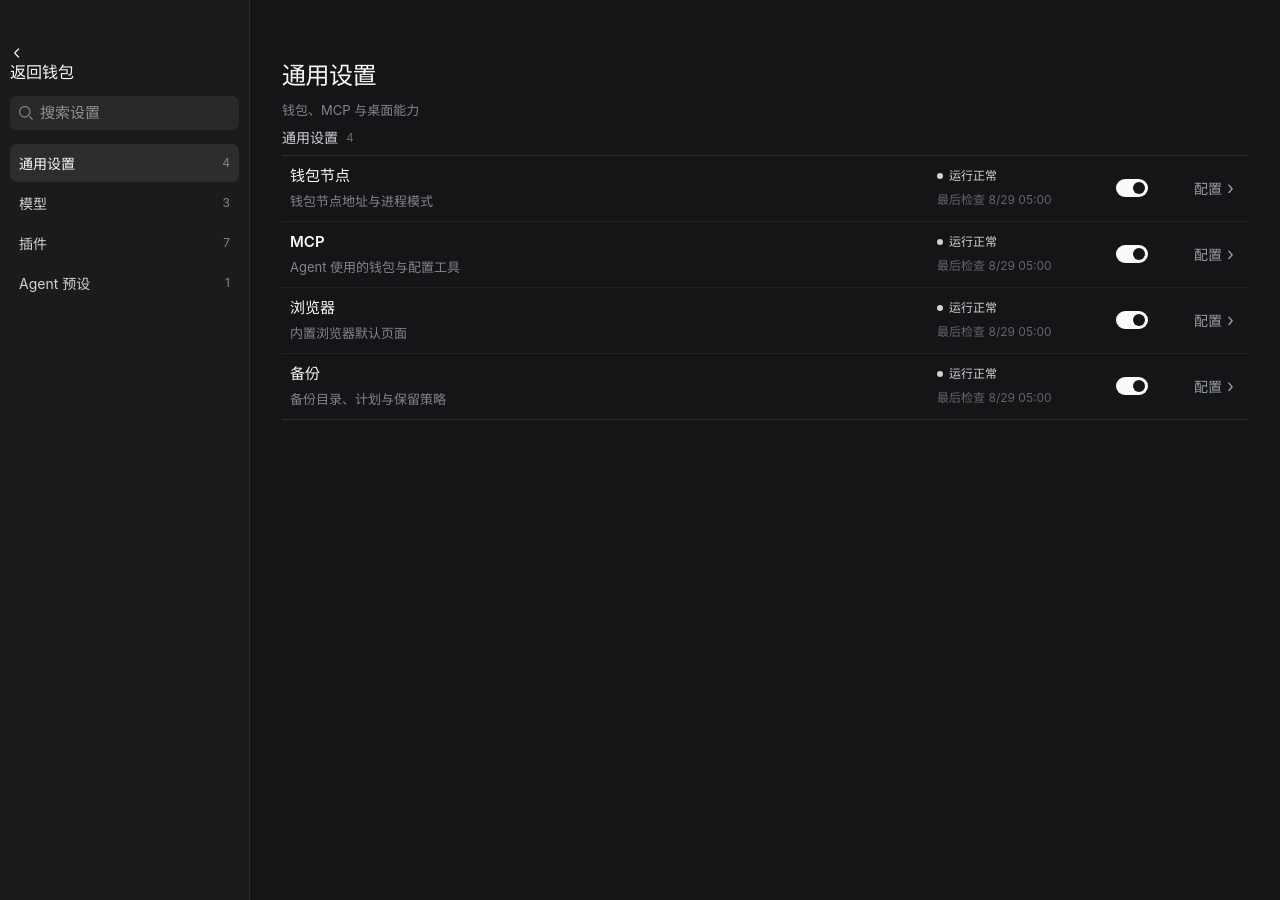
Test: settings labels › does not save a wallet signer session timeout shorter than two rounds
Click the button "通用设置 4". click: (124, 163)
box: [10,144,239,182]
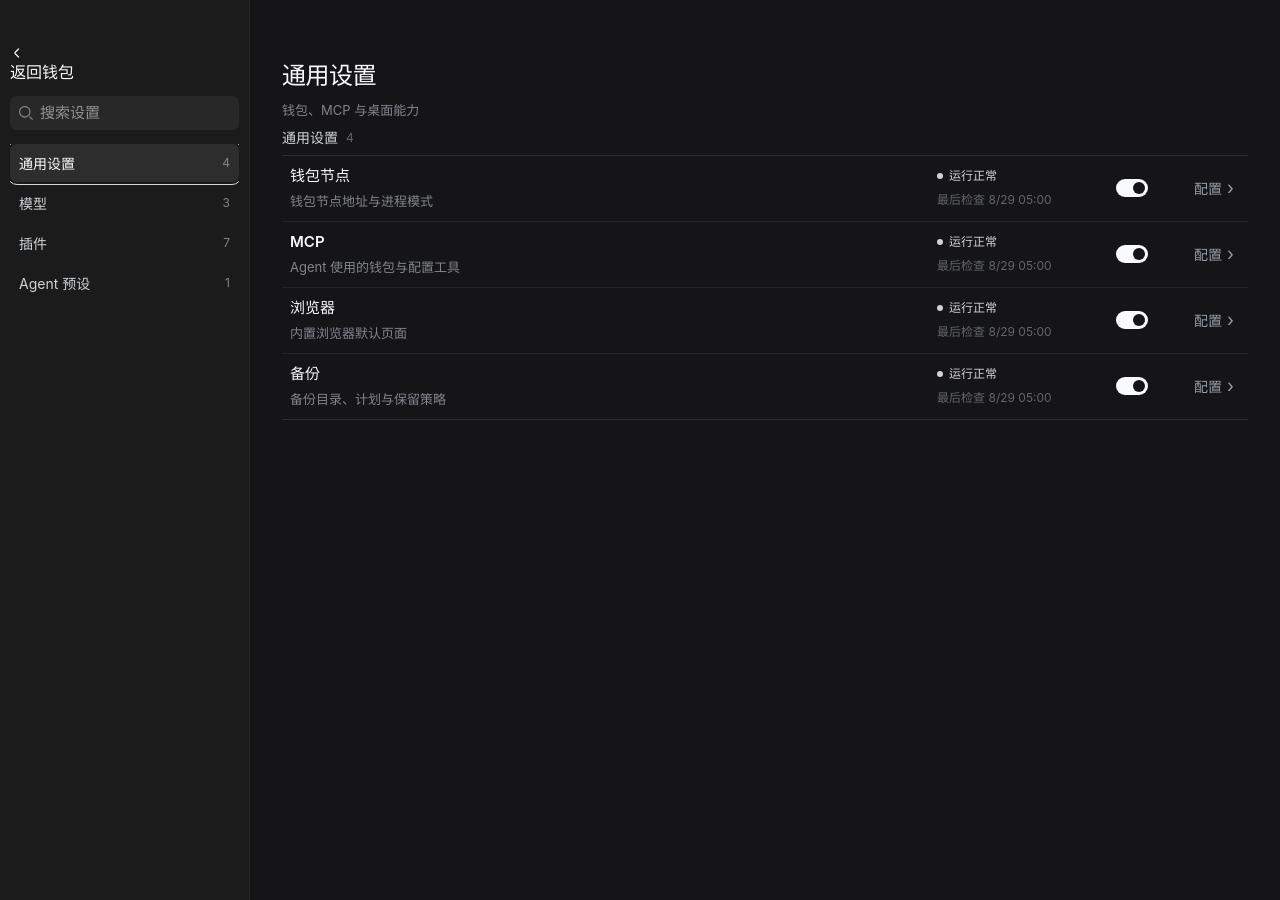
Click the button with aria-label "配置 钱包节点". click: (1214, 188)
box: [1188,172,1240,204]
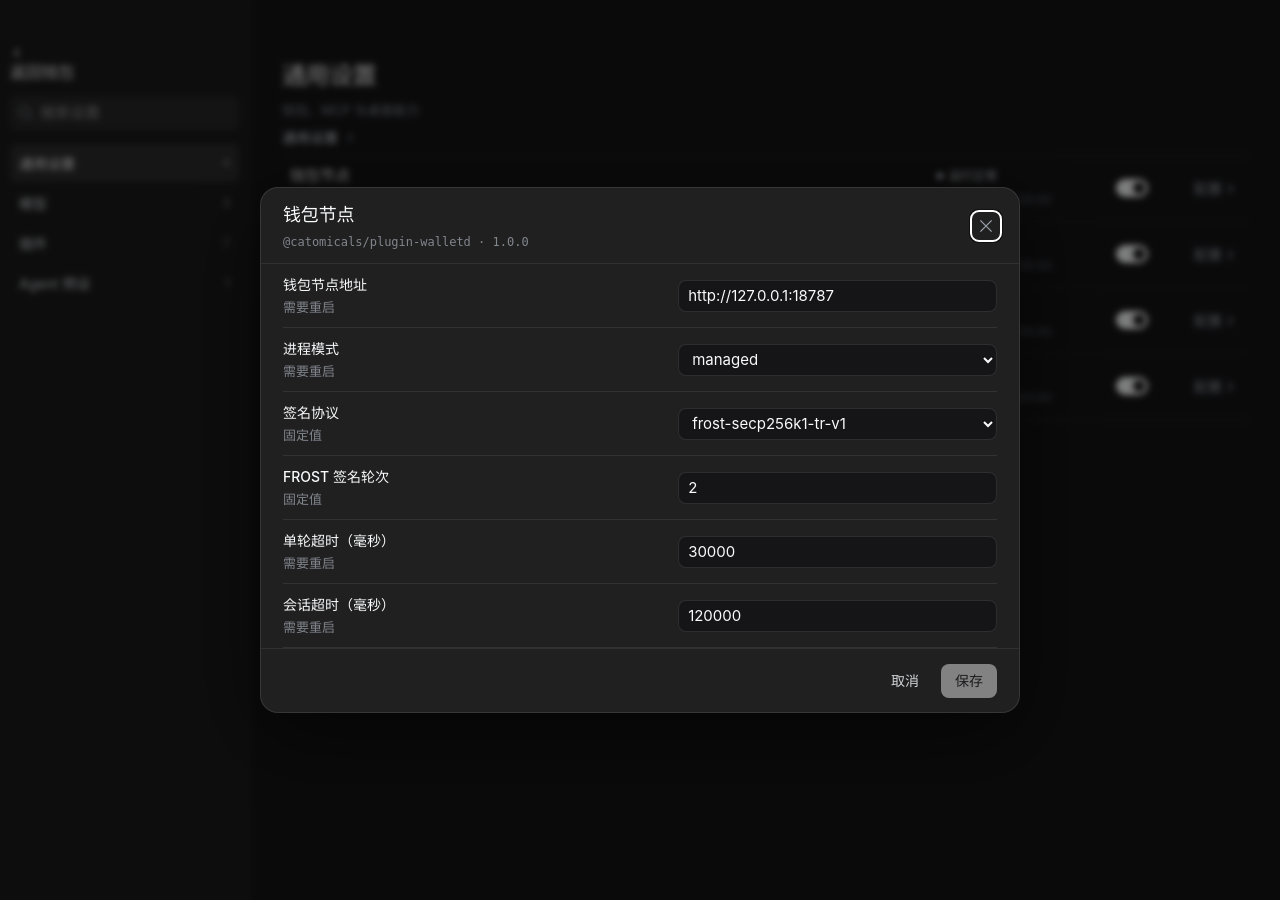
Replace the text in the number field labelled "会话超时（毫秒） 需要重启" with "59999". click: (838, 616)
box: [678,600,997,632]
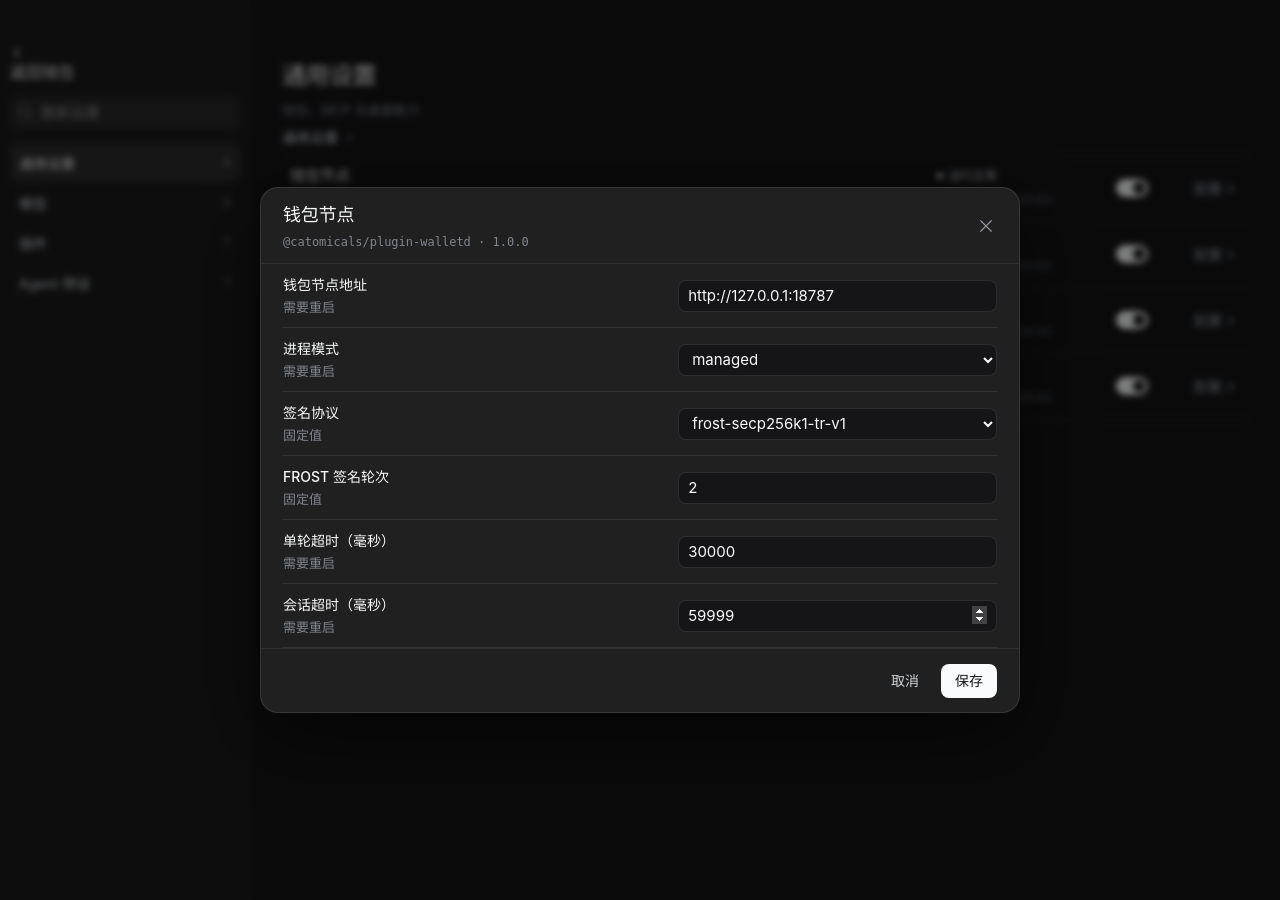
Click the button "保存". click: (969, 680)
box: [941,664,997,698]
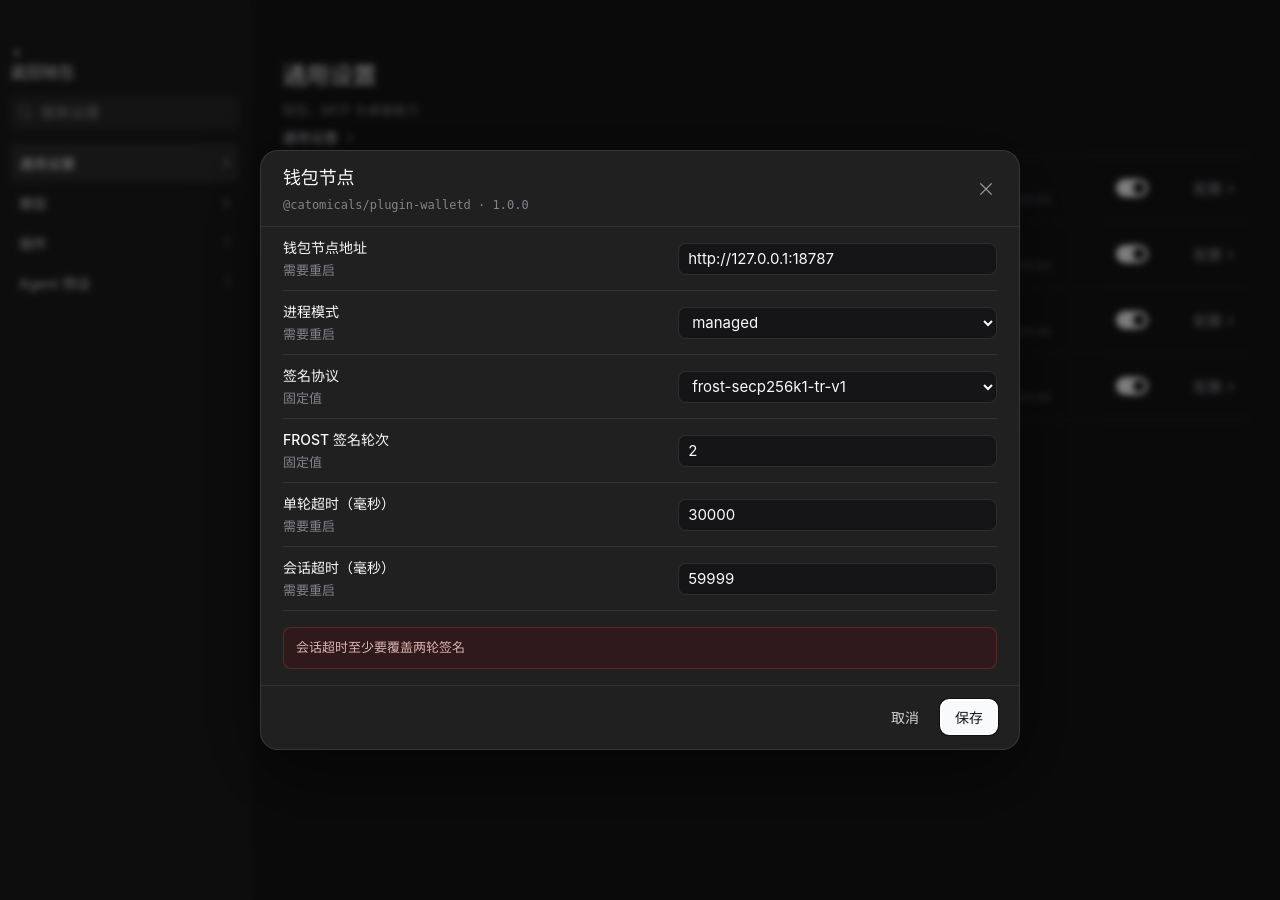
Check: the message reads "会话超时至少要覆盖两轮签名", box [296,639,465,655]
